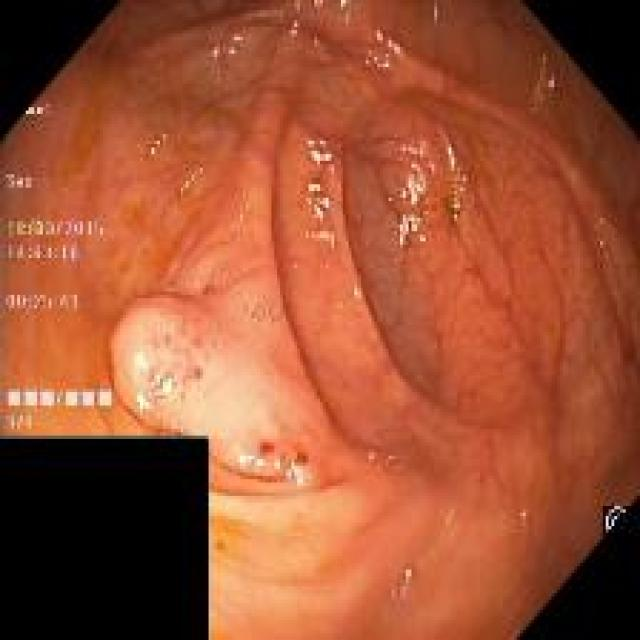Polyps: (110, 277, 368, 493)
